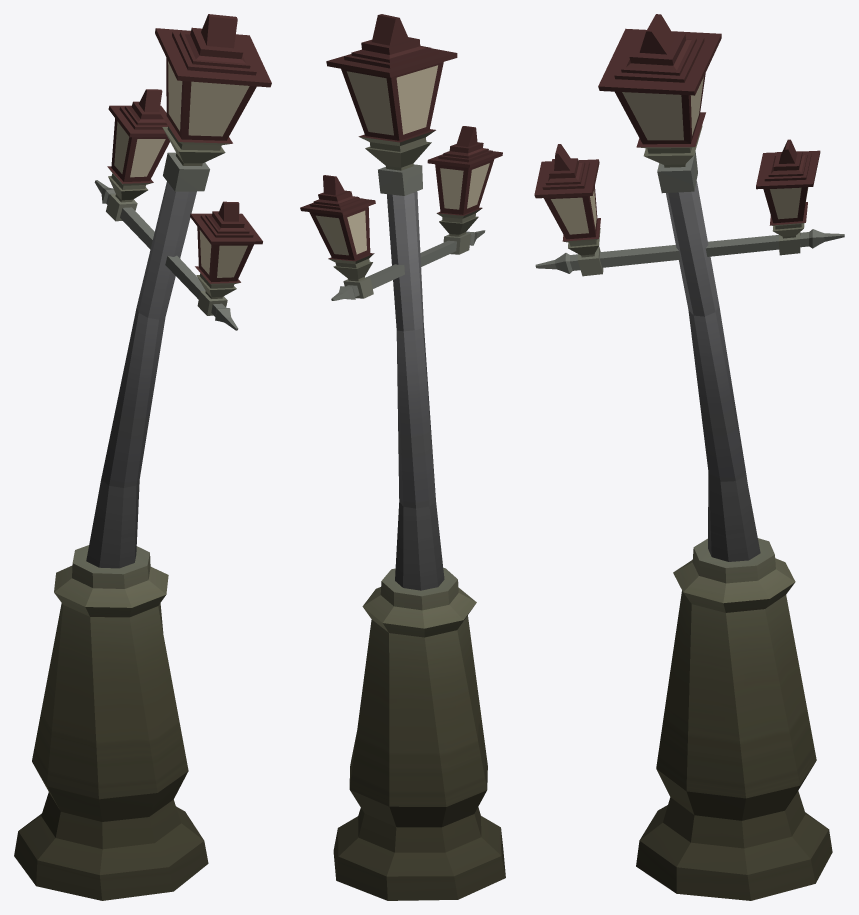
File: ea_exterior_lantern_solid_01a_pre_lev1.glb
3 renders of one model, left to right at view 1: azimuth 30°, elevation 25°; view 2: azimuth 150°, elevation 25°; view 3: azimuth 270°, elevation 25°, orthographic. The views are drawn at different scales.
Visible parts, largest first — view 1: ea_exterior_lantern_solid_01a_pre_lev1; view 2: ea_exterior_lantern_solid_01a_pre_lev1; view 3: ea_exterior_lantern_solid_01a_pre_lev1.
Part boxes in pixels (left/top/right/bottom): ea_exterior_lantern_solid_01a_pre_lev1: left=14, top=14, right=271, bottom=900; ea_exterior_lantern_solid_01a_pre_lev1: left=300, top=14, right=505, bottom=900; ea_exterior_lantern_solid_01a_pre_lev1: left=534, top=14, right=844, bottom=900.
Size of the model in its own units: 1.43 by 5.78 by 1.86.
Materials: 1 (1 with a texture image).
